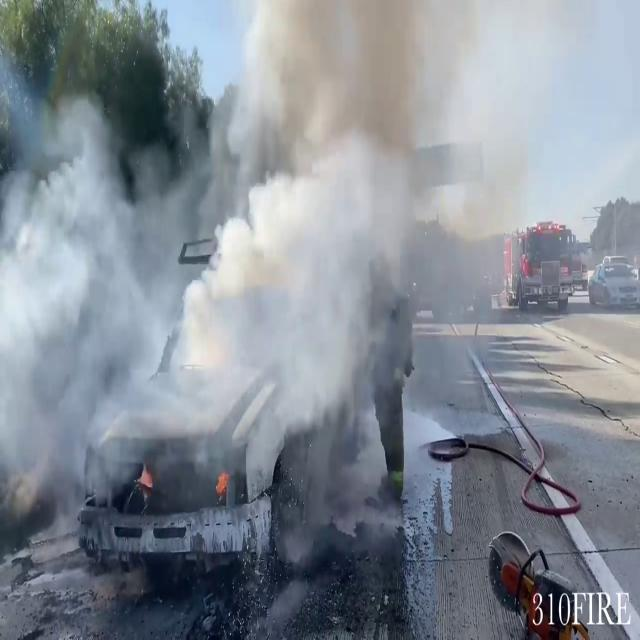Smoke: (0, 1, 554, 516)
